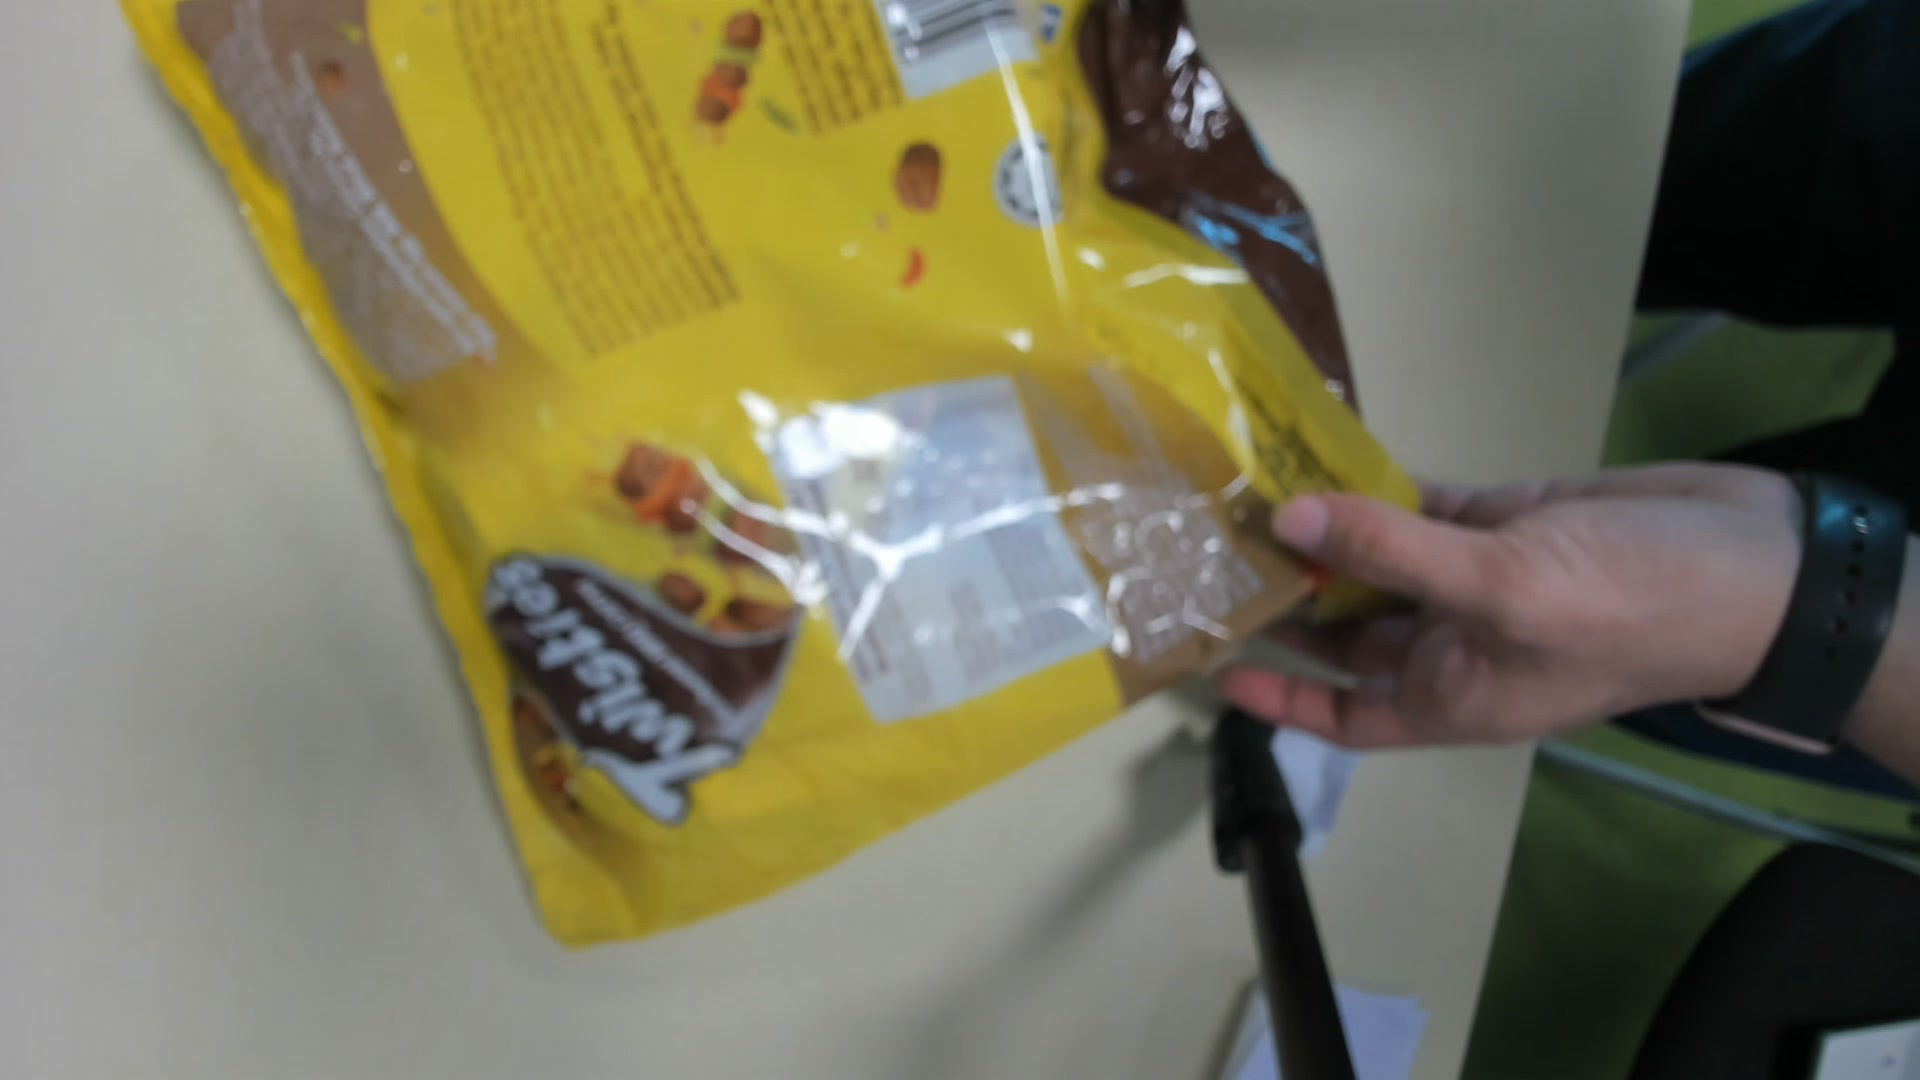PotatoChipsKeropok_0-99g_Halal_NonHealthy: (142, 1, 1410, 960)
